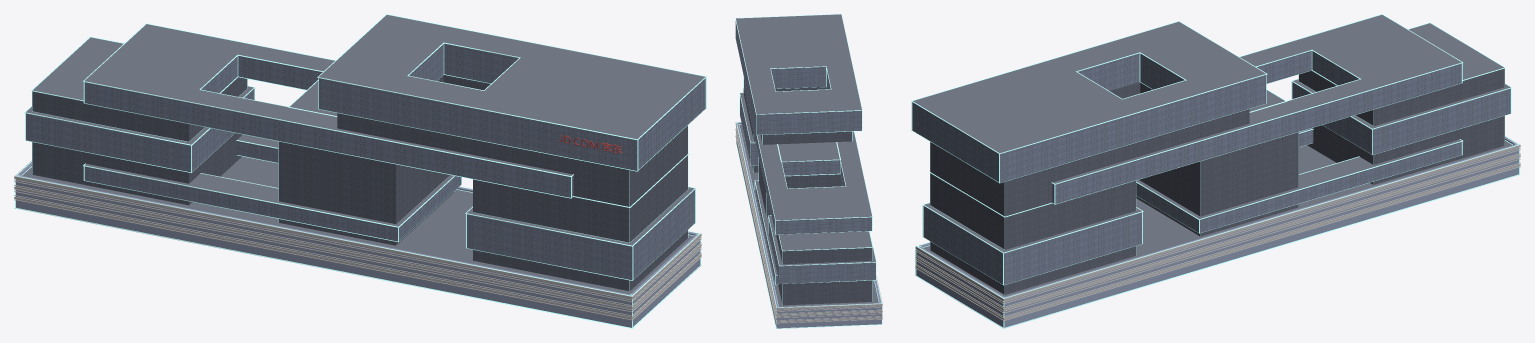
File: jingdong.glb
3 views of the same model, side by side, from view 1: azimuth 30°, elevation 25°; view 2: azimuth 150°, elevation 25°; view 3: azimuth 270°, elevation 25° (orthographic). The views are drawn at different scales.
Parts seen in each view (by area): view 1: Material #44, 01 - Default, Material #45, 04 - Default, 05 - Default, 03 - Default; view 2: 01 - Default, Material #44, Material #45, 03 - Default, 04 - Default, 05 - Default; view 3: Material #44, 01 - Default, Material #45, 04 - Default, 05 - Default, 03 - Default.
Part boxes in pixels (x1,y1,x2,y2): Material #44: (26, 43, 705, 280); 01 - Default: (22, 15, 704, 294); Material #45: (32, 75, 687, 291); 04 - Default: (16, 162, 700, 327); 05 - Default: (14, 160, 701, 320); 03 - Default: (14, 14, 706, 328); 01 - Default: (736, 14, 878, 306); Material #44: (735, 21, 875, 284); Material #45: (743, 87, 872, 305); 03 - Default: (735, 14, 882, 328); 04 - Default: (736, 122, 882, 328); 05 - Default: (735, 122, 882, 323); Material #44: (912, 51, 1510, 284); 01 - Default: (913, 15, 1512, 296); Material #45: (930, 68, 1504, 294); 04 - Default: (916, 137, 1518, 327); 05 - Default: (915, 136, 1520, 321); 03 - Default: (911, 14, 1520, 328).
Bounding box in the file's own units: 243 × 95.82 × 300.
7 materials, 2 textured.
